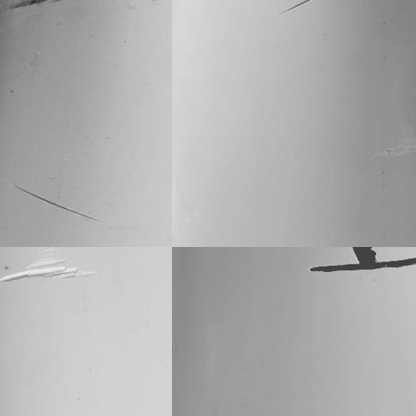fengxi: (305, 258, 416, 276)
kongdong: (350, 243, 376, 264)
sunshang: (4, 251, 97, 289)
